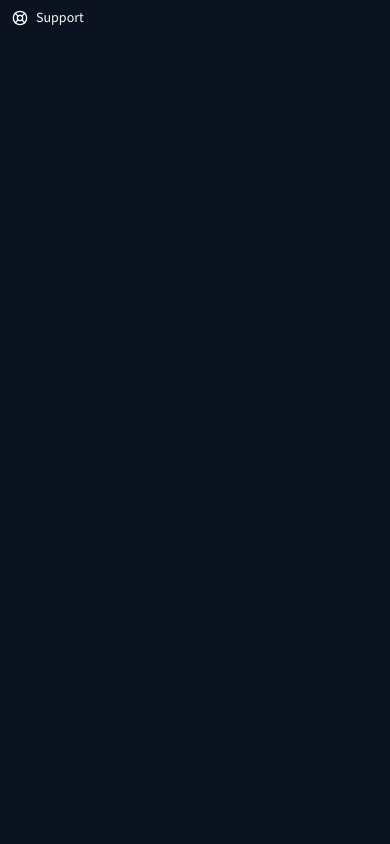
Scenario: ServiceTicketDialog smoke › renders trigger and shows login prompt when user is not authenticated
Click the button "Support".
click(48, 18)  # box [0, 0, 96, 36]
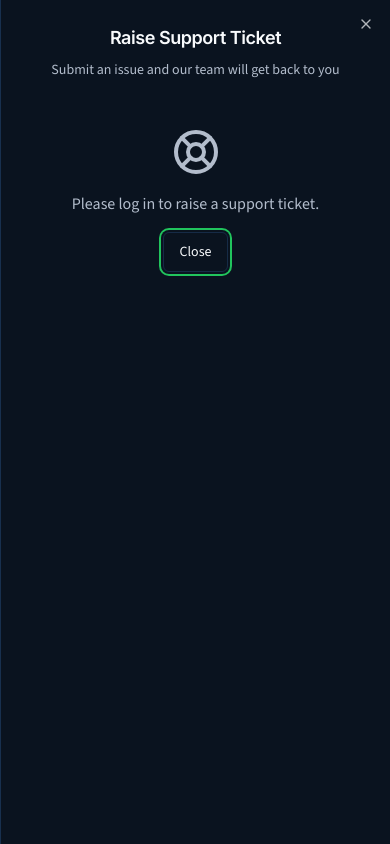
Result: the text "Please log in to raise a support ticket." is shown at [72, 192, 319, 216]
